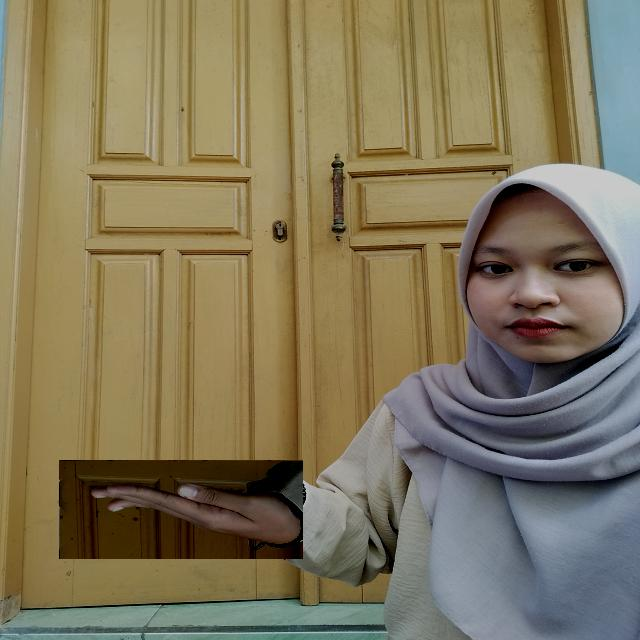adik: (59, 460, 303, 559)
